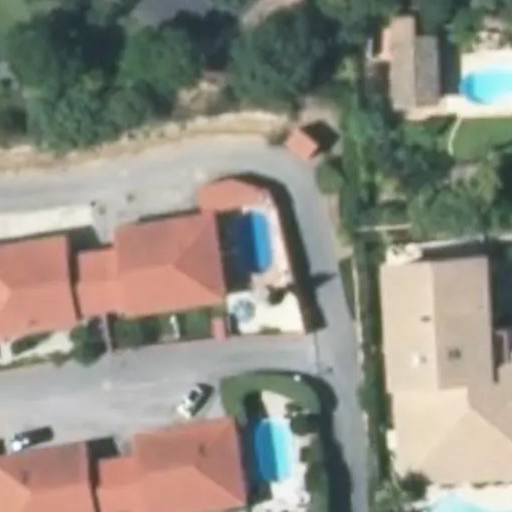pool: (235, 214, 275, 269)
